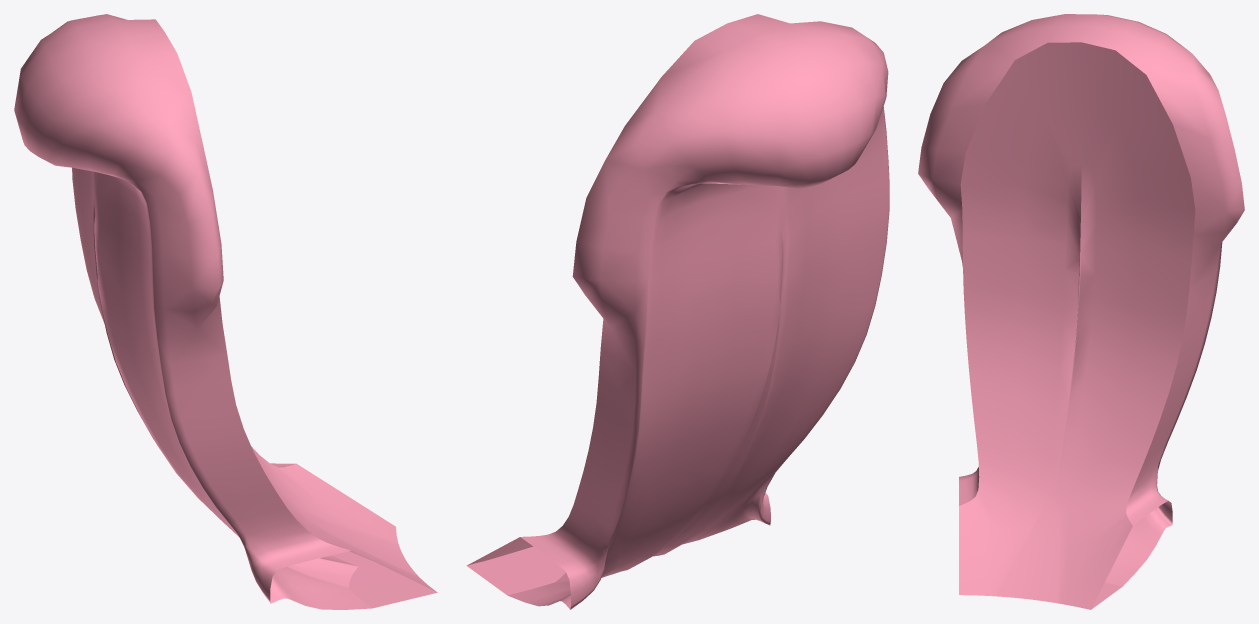
3 renders of one model, left to right at view 1: azimuth 30°, elevation 25°; view 2: azimuth 150°, elevation 25°; view 3: azimuth 270°, elevation 25°, orthographic. The views are drawn at different scales.
Visible parts, largest first — view 1: Plane341; view 2: Plane341; view 3: Plane341.
Part boxes in pixels (<box>): Plane341: <box>14,14,437,609</box>; Plane341: <box>466,14,889,609</box>; Plane341: <box>918,14,1244,609</box>.
Bounding box in the file's own units: 0.2118 × 0.3085 × 0.1932.
